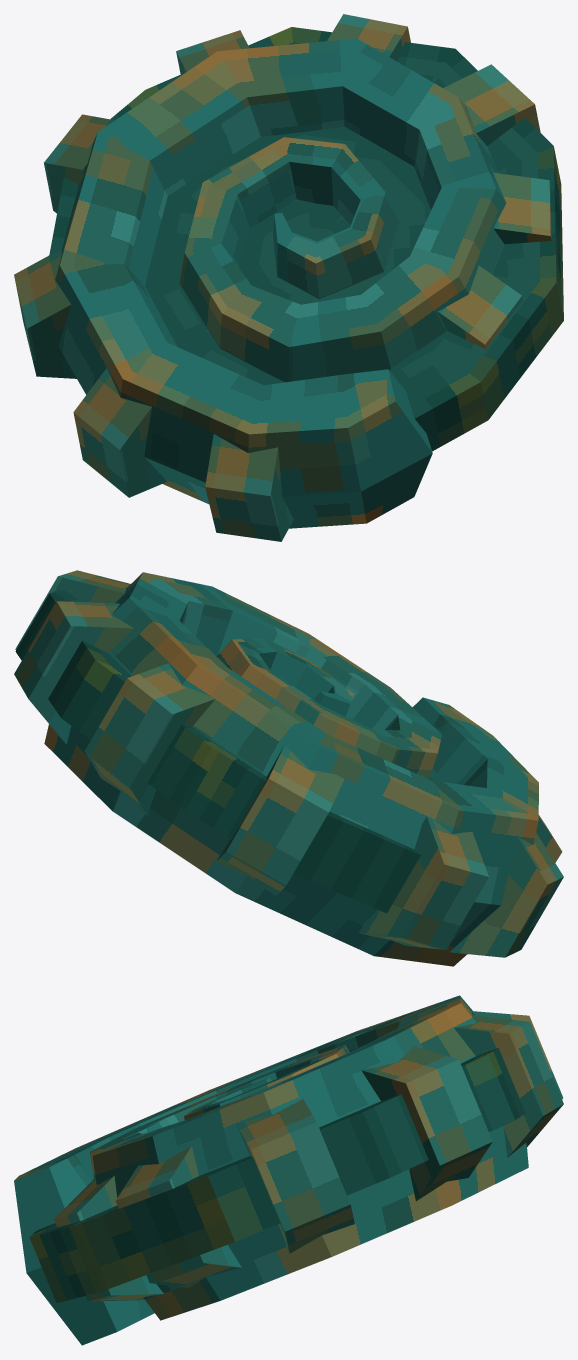
3 renders of one model, top to bottom at view 1: azimuth 30°, elevation 25°; view 2: azimuth 150°, elevation 25°; view 3: azimuth 270°, elevation 25°, orthographic. The views are drawn at different scales.
Visible parts, largest first — view 1: coin_head, coin_center; view 2: coin_head, coin_center; view 3: coin_head, coin_center.
Part boxes in pixels (bbox=[...]): coin_head: bbox=[14, 14, 551, 541]; coin_center: bbox=[49, 27, 563, 451]; coin_head: bbox=[14, 570, 563, 966]; coin_center: bbox=[15, 590, 432, 913]; coin_head: bbox=[14, 995, 563, 1345]; coin_center: bbox=[29, 1047, 525, 1302].
Bounding box in the file's own units: 16.56 × 11.64 × 15.42.
1 material, 1 textured.
